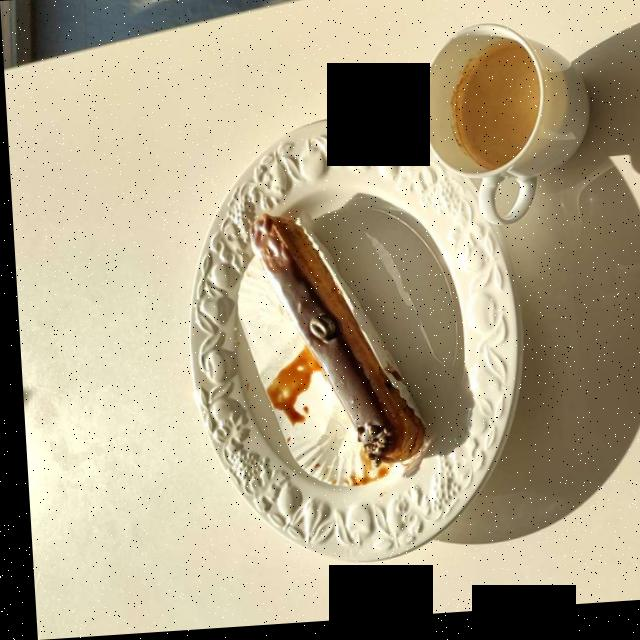coffee-with-caffeine: (453, 51, 540, 168)
